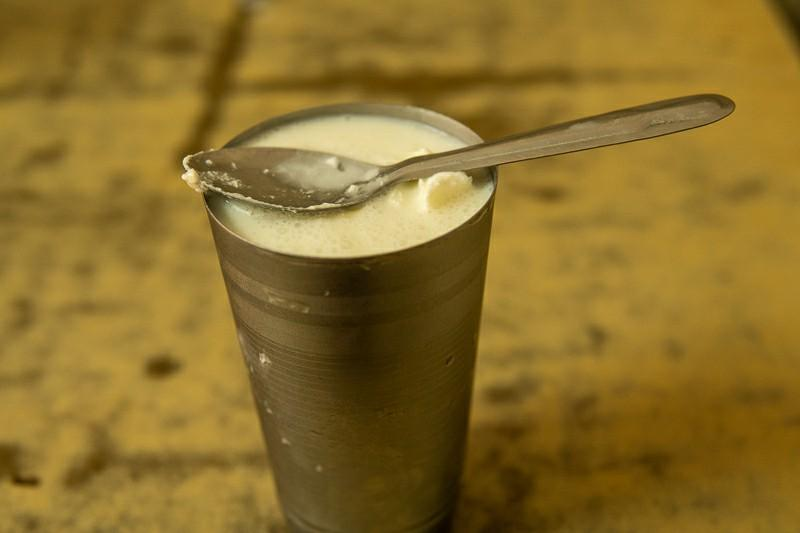Lassi: (212, 114, 494, 257)
